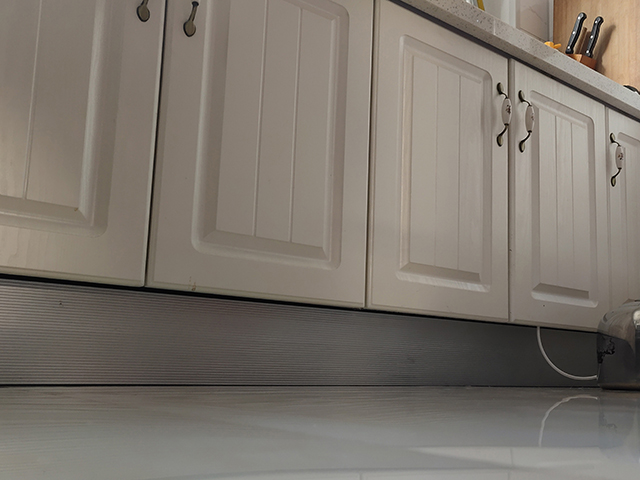cabinet: (1, 1, 640, 390)
wire: (534, 325, 598, 381)
